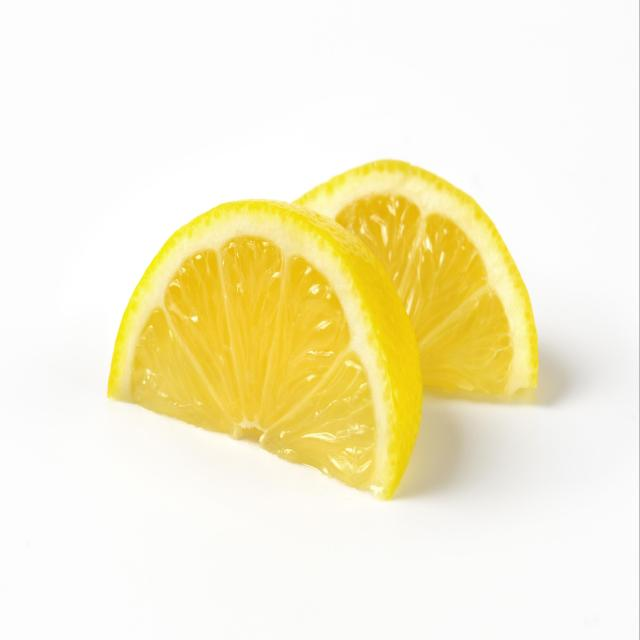lemon: (104, 152, 544, 504)
